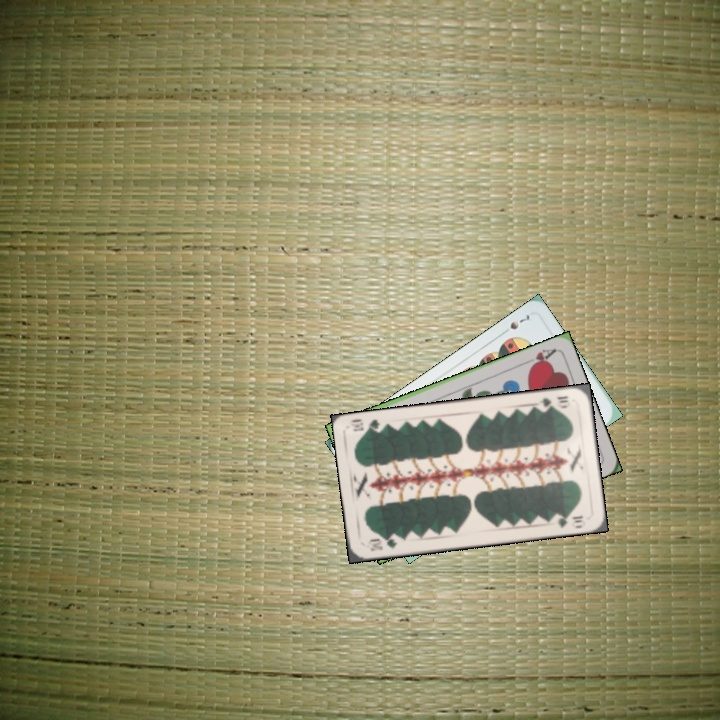G10: (534, 392, 571, 412), (363, 533, 400, 553)
HA: (519, 345, 559, 371)
S7: (506, 310, 532, 332)
